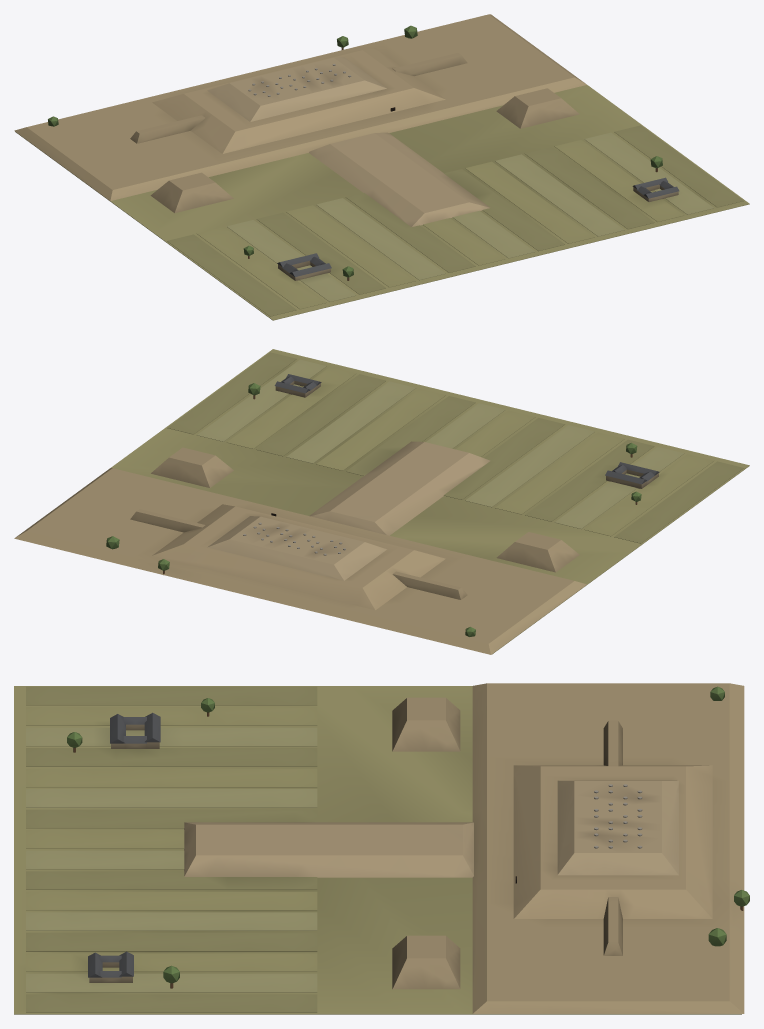
Rendered from hanyuan-hall-ruin.glb.
3 views of the same model, one above another, from view 1: azimuth 30°, elevation 25°; view 2: azimuth 150°, elevation 25°; view 3: azimuth 270°, elevation 25° (orthographic). The views are drawn at different scales.
Parts seen in each view (by area): view 1: p0_mounds, p1_village, p2_trees; view 2: p0_mounds, p1_village, p2_trees; view 3: p0_mounds, p1_village, p2_trees.
Part boxes in pixels (x1,y1,x2,y2): p0_mounds: [14, 14, 749, 320]; p1_village: [248, 64, 679, 280]; p2_trees: [48, 25, 662, 280]; p0_mounds: [14, 349, 749, 654]; p1_village: [243, 374, 659, 555]; p2_trees: [106, 383, 641, 636]; p0_mounds: [14, 683, 744, 1014]; p1_village: [88, 712, 642, 982]; p2_trees: [67, 686, 749, 988].
Bounding box in the file's own units: 320 × 15.8 × 303.
